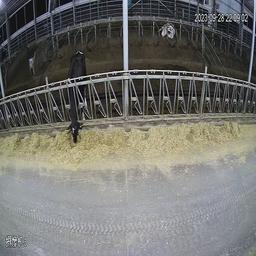cow: (66, 49, 87, 143), (156, 18, 179, 42)
